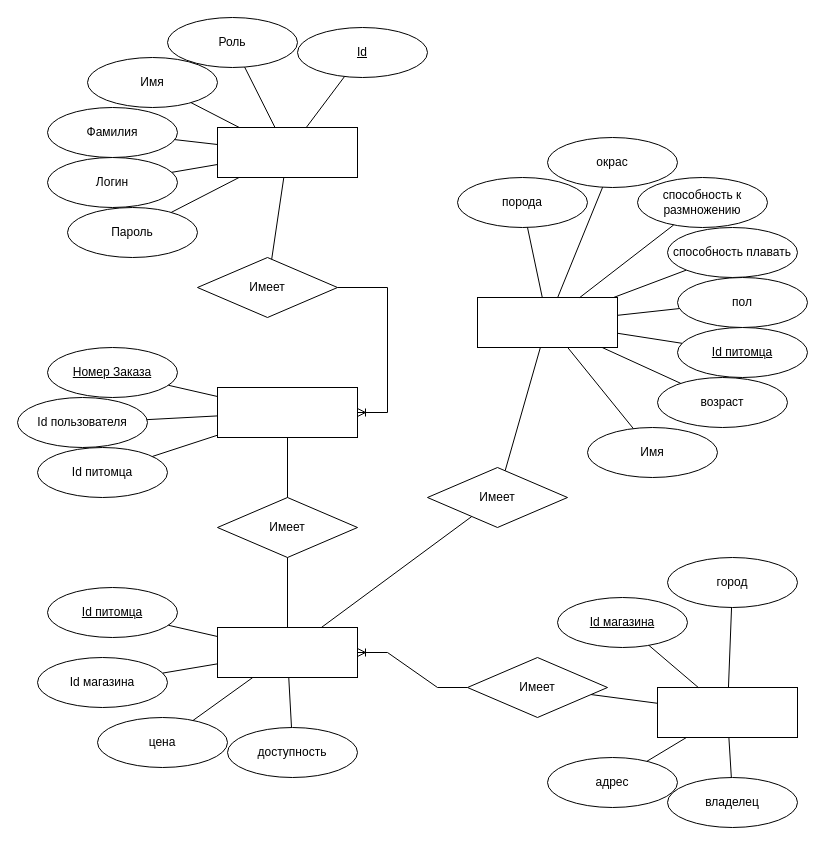
Image size: 825x845. Some labels were removed from this diagram. The centre of each missing label's shape, as x and y in pixels:
Заказ: (x=287, y=412)
Информация о питомце: (x=547, y=322)
Магазин: (x=727, y=712)
Питомец: (x=287, y=652)
Пользователь: (x=287, y=152)
